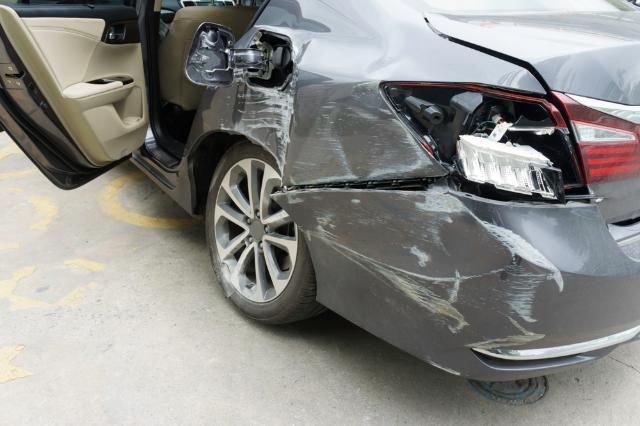dent: (261, 3, 382, 68), (222, 78, 294, 168)
lamp broken: (382, 80, 591, 204)
scratch: (300, 193, 567, 351), (288, 79, 436, 187)
